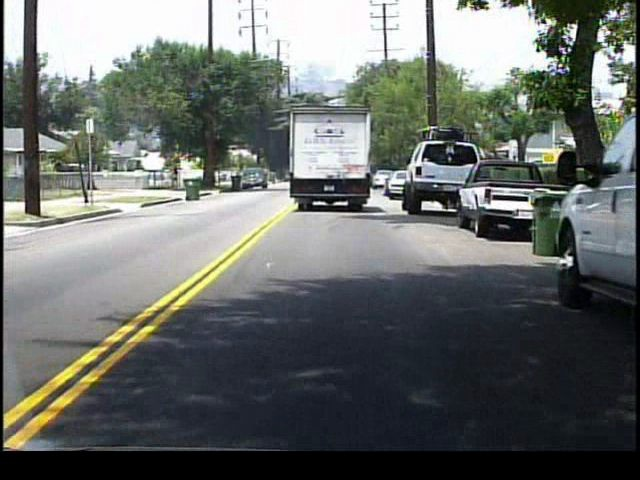person: (172, 165, 182, 191)
